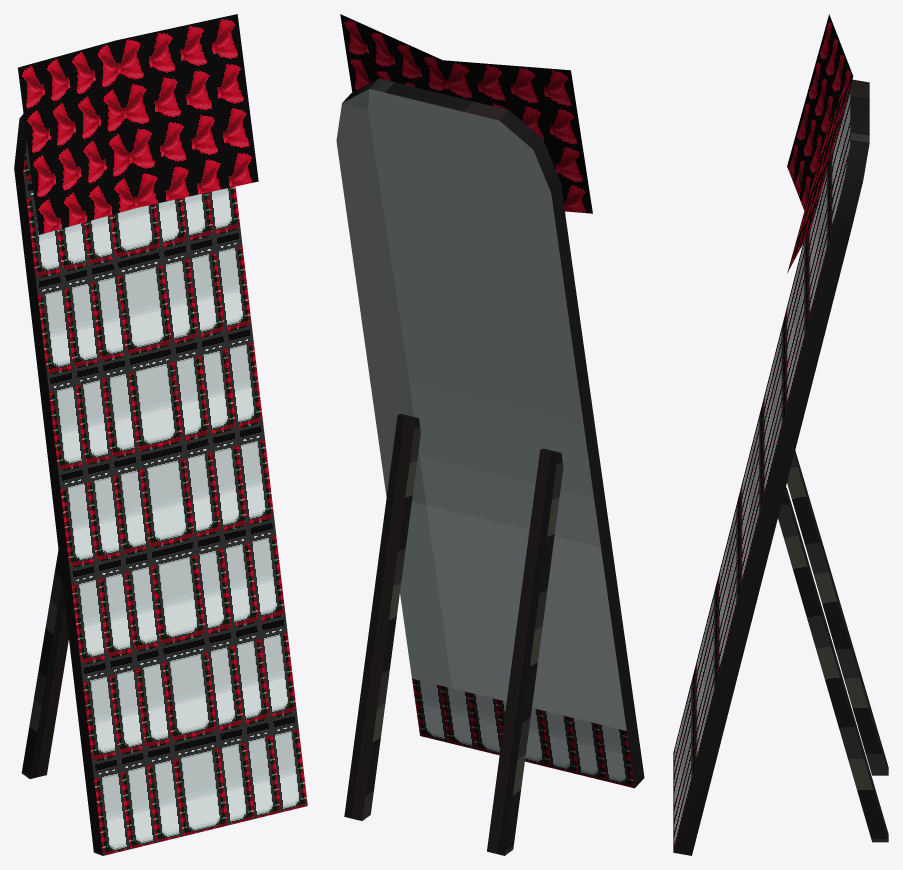
File: 3837kg3_ser18.gltf
3 renders of one model, left to right at view 1: azimuth 30°, elevation 25°; view 2: azimuth 150°, elevation 25°; view 3: azimuth 270°, elevation 25°, orthographic. The views are drawn at different scales.
Visible parts, largest first — view 1: 3837kg3_ser18; view 2: 3837kg3_ser18; view 3: 3837kg3_ser18.
Part boxes in pixels (<box>): 3837kg3_ser18: <box>14,14,307,855</box>; 3837kg3_ser18: <box>336,14,644,855</box>; 3837kg3_ser18: <box>673,14,888,855</box>.
Bounding box in the file's own units: 0.6235 × 2 × 0.5273.
3 materials, 3 textured.
